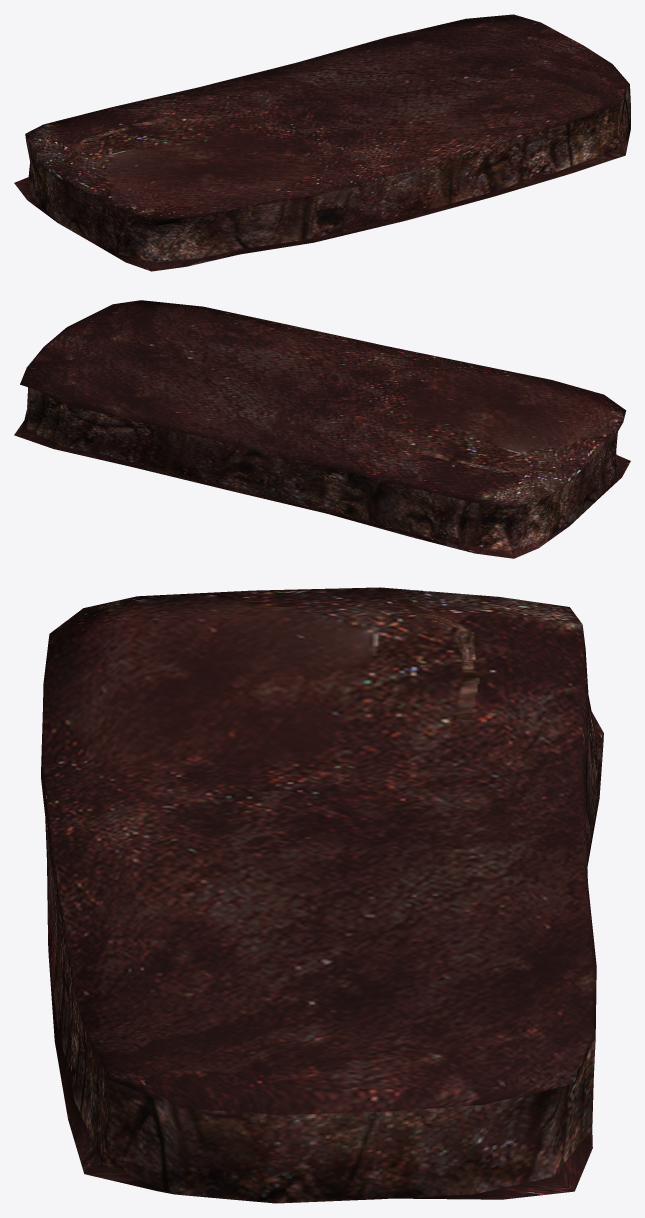
Rendered from ground.FBX.
The picture shows the model from 3 angles, top to bottom: view 1: azimuth 30°, elevation 25°; view 2: azimuth 150°, elevation 25°; view 3: azimuth 270°, elevation 25°; orthographic projection. The views are drawn at different scales.
Visible parts, largest first — view 1: ground; view 2: ground; view 3: ground.
Part boxes in pixels (<box>): ground: <box>14,14,630,271</box>; ground: <box>14,300,630,558</box>; ground: <box>41,587,603,1203</box>.
Size of the model in its own units: 246 by 28.61 by 112.
